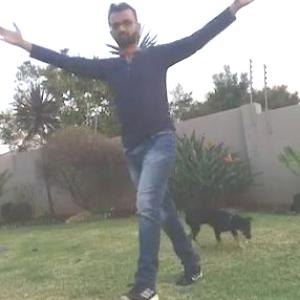takeoff: (15, 0, 255, 270)
